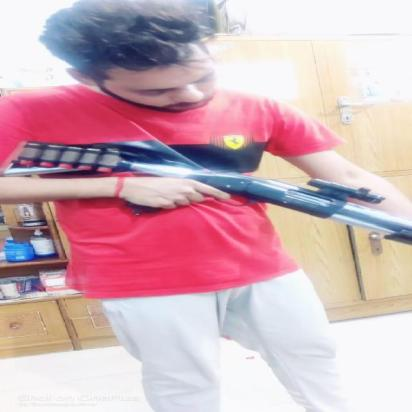Gun: (0, 138, 411, 246)
